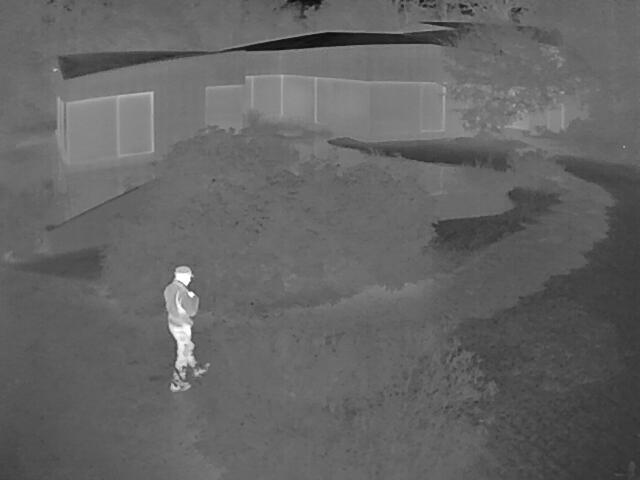person: (163, 264, 211, 392)
